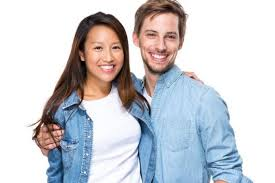asian_female: (59, 11, 135, 90)
